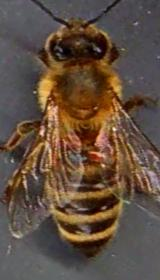varroa_mite: (81, 145, 102, 161)
